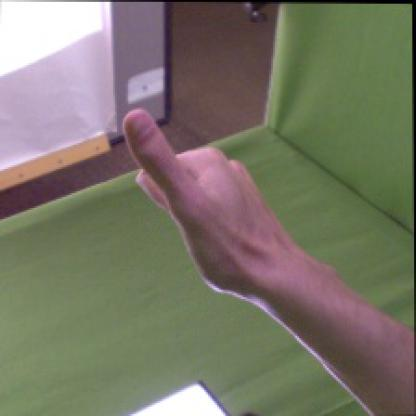Hand: (122, 107, 300, 302)
